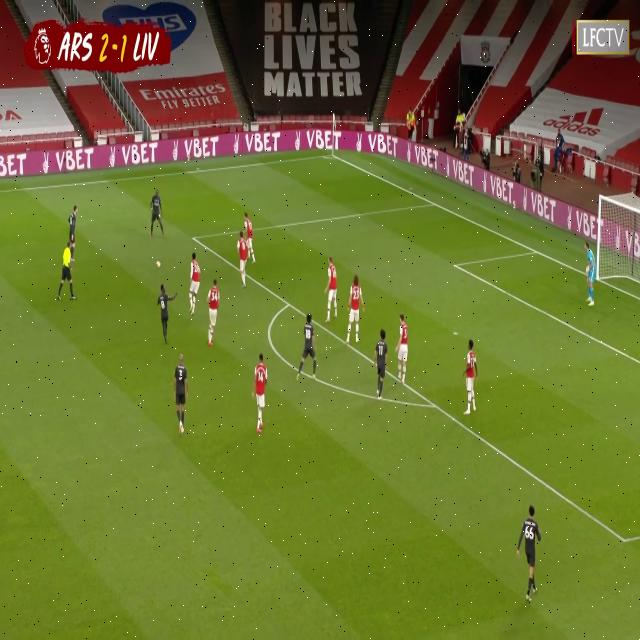Ball: (157, 262, 162, 268)
GoalKeeper: (583, 243, 597, 306)
TEAM 1: (252, 353, 268, 438), (348, 275, 365, 343), (463, 340, 478, 416), (206, 280, 222, 348), (394, 317, 410, 385), (326, 258, 339, 324), (189, 254, 202, 314), (236, 231, 248, 291), (244, 208, 256, 268)
TEAM 2: (519, 507, 543, 603), (298, 313, 318, 379), (175, 357, 189, 435), (374, 331, 389, 402), (150, 190, 166, 240), (66, 198, 78, 260), (159, 286, 171, 342)
